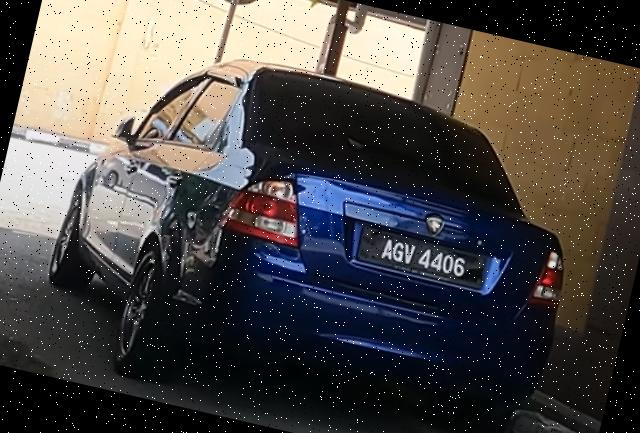License_Plate: (351, 221, 494, 292)
car: (29, 22, 602, 433)
